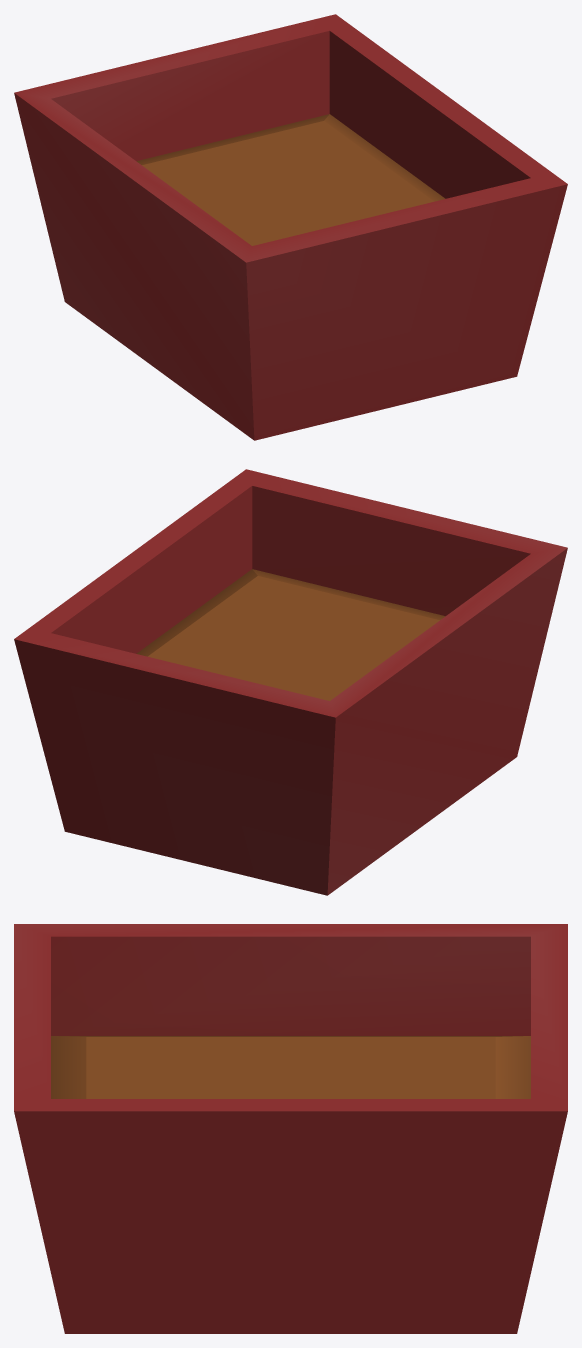
File: Pot.glb
3 renders of one model, top to bottom at view 1: azimuth 30°, elevation 25°; view 2: azimuth 150°, elevation 25°; view 3: azimuth 270°, elevation 25°, orthographic. The views are drawn at different scales.
Parts seen in each view (by area): view 1: Cube; view 2: Cube; view 3: Cube.
Boxes of the visible parts, left/top/right/bottom form: Cube: left=14, top=14, right=567, bottom=440; Cube: left=14, top=469, right=567, bottom=895; Cube: left=14, top=924, right=567, bottom=1333.
Bounding box in the file's own units: 0.9799 × 0.5846 × 1.22.
